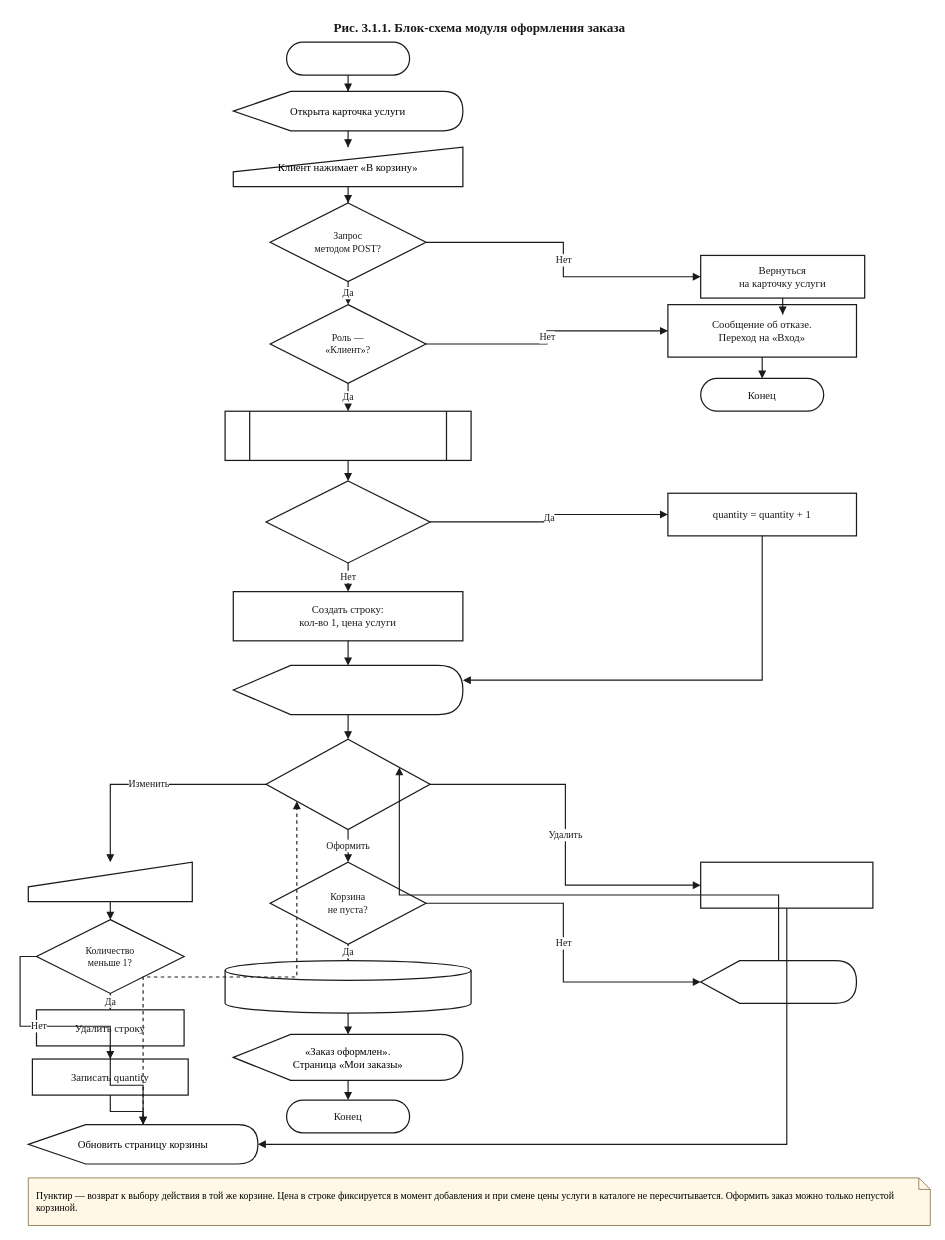
The diagram is 945 pixels wide and 1240 high, and some of its shapes have lost their labels. The centre of each missing label's shape, as x and y in pixels:
"«Услуга добавлена». Показать корзину" goes at [347,689].
"Действие в корзине?" goes at [347,784].
"Найти заказ status=cart или создать его" goes at [347,435].
"Начало" goes at [348,58].
"Новое количество" goes at [110,881].
"Сообщение «Корзина пуста»" goes at [778,982].
"Сохранить комментарий. status = new, обновить дату" goes at [347,986].
"Удалить выбранную строку заказа" goes at [786,884].
"Услуга уже в корзине?" goes at [347,521].
